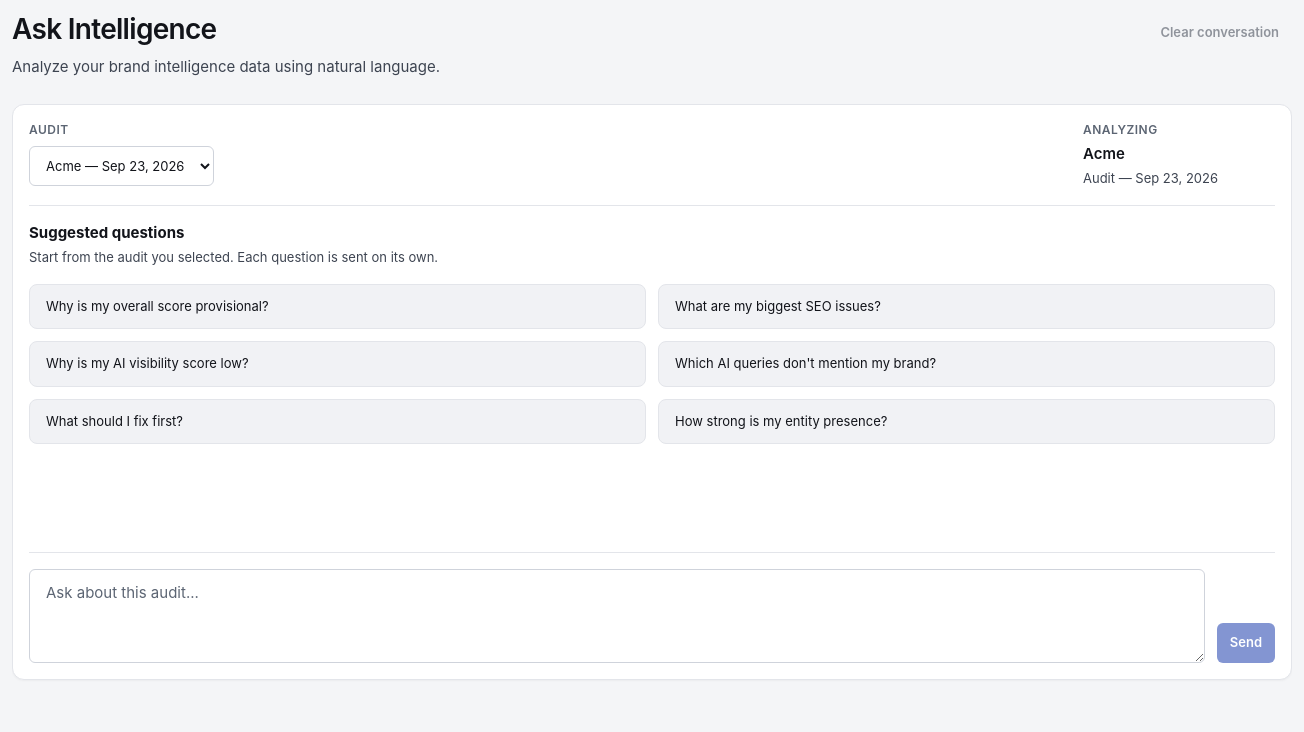
Test case: IntelligenceChatComponent › says when an answer has no direct evidence
Type "How is my brand doing?" into the text box with id "ask-question". click: (617,616)
box: [29,569,1205,663]
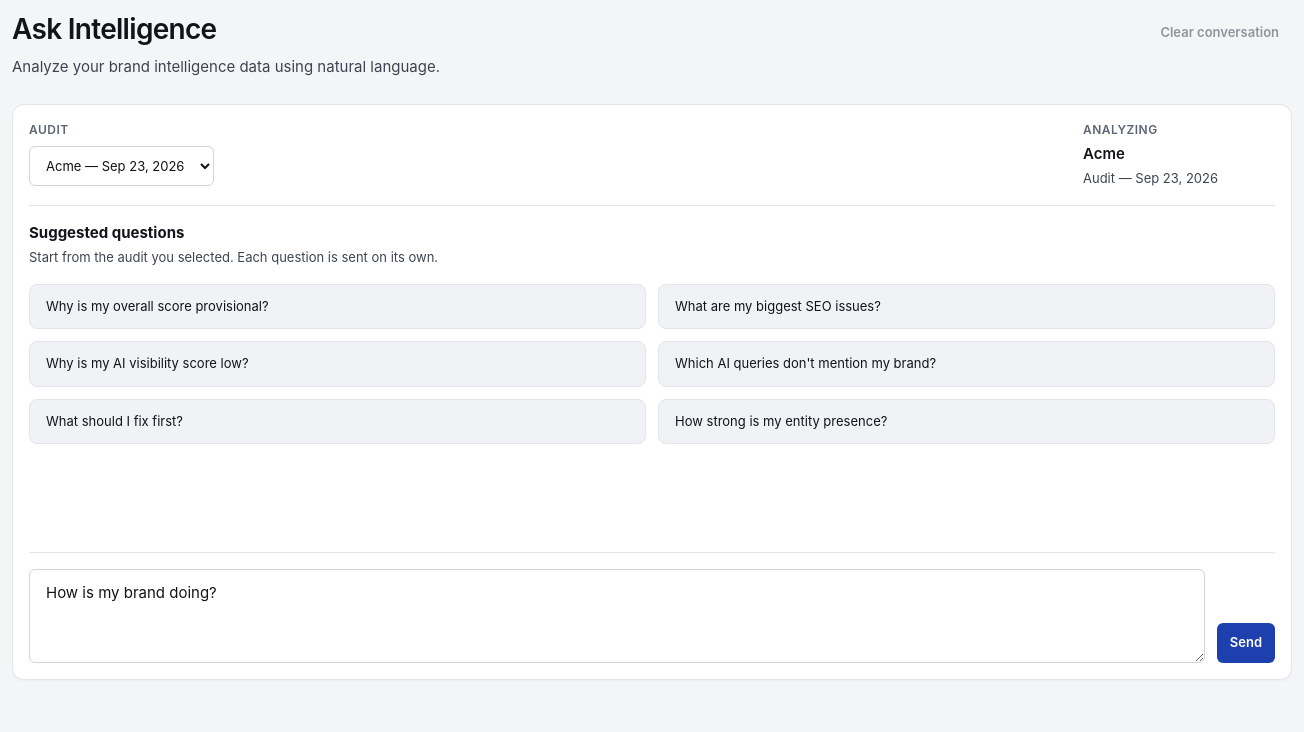
Click the button "Send". click: (1246,643)
box: [1217,623,1275,663]
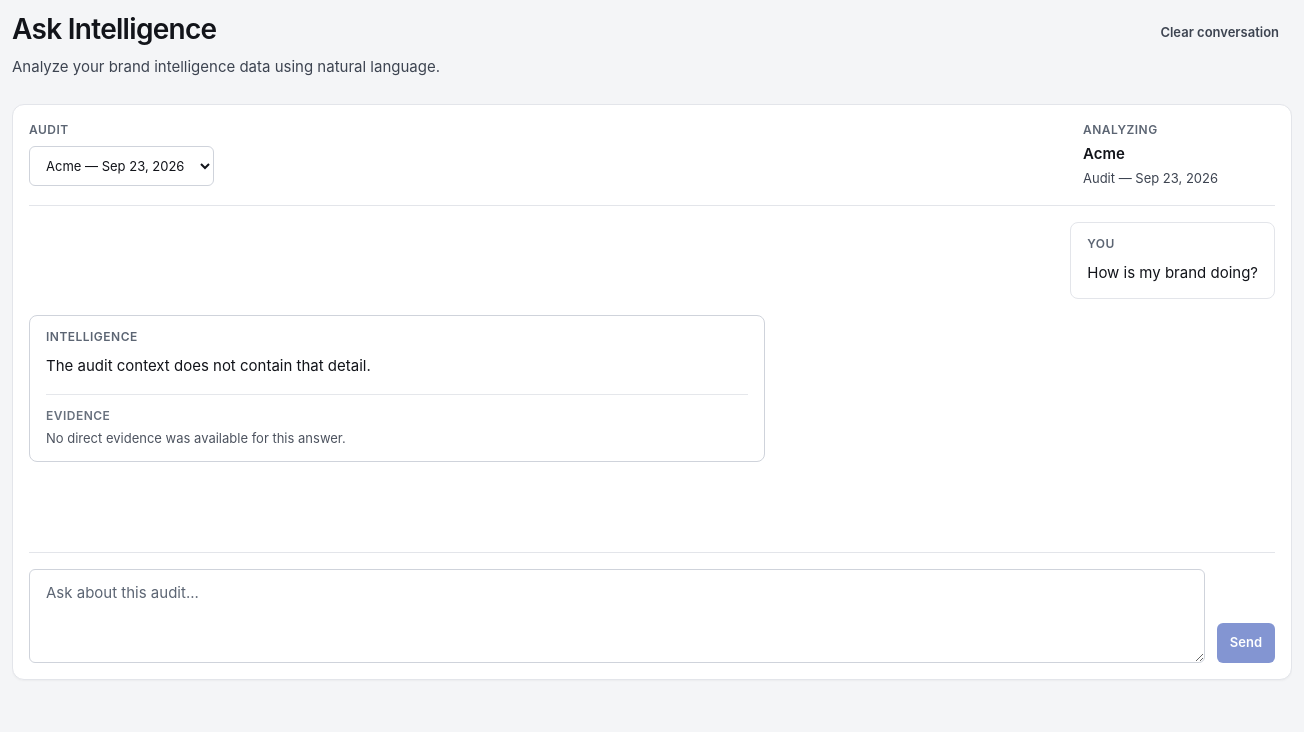
Expected: the text "No direct evidence was available for this answer." is shown, [46,430,346,446]
